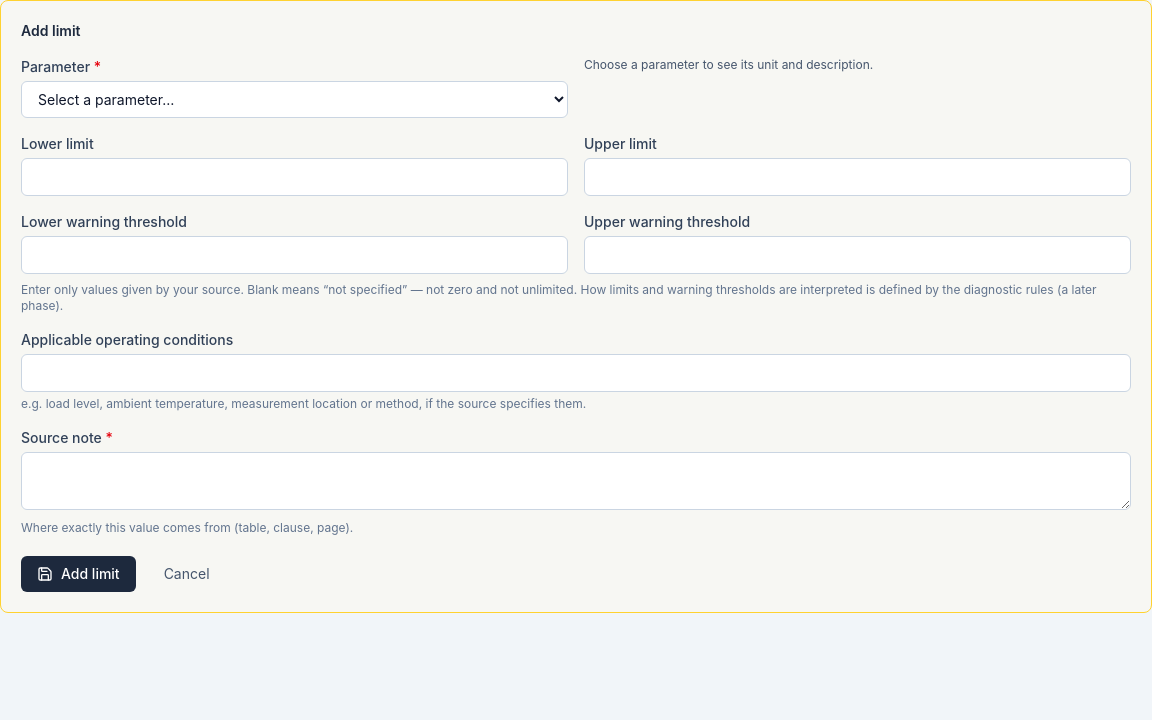
LimitForm › rejects a form with no thresholds and does not submit
Select "Voltage (V)" in the dropdown labelled "Parameter *" at point(294, 100), box top-left (21, 81), bottom-right (568, 118)
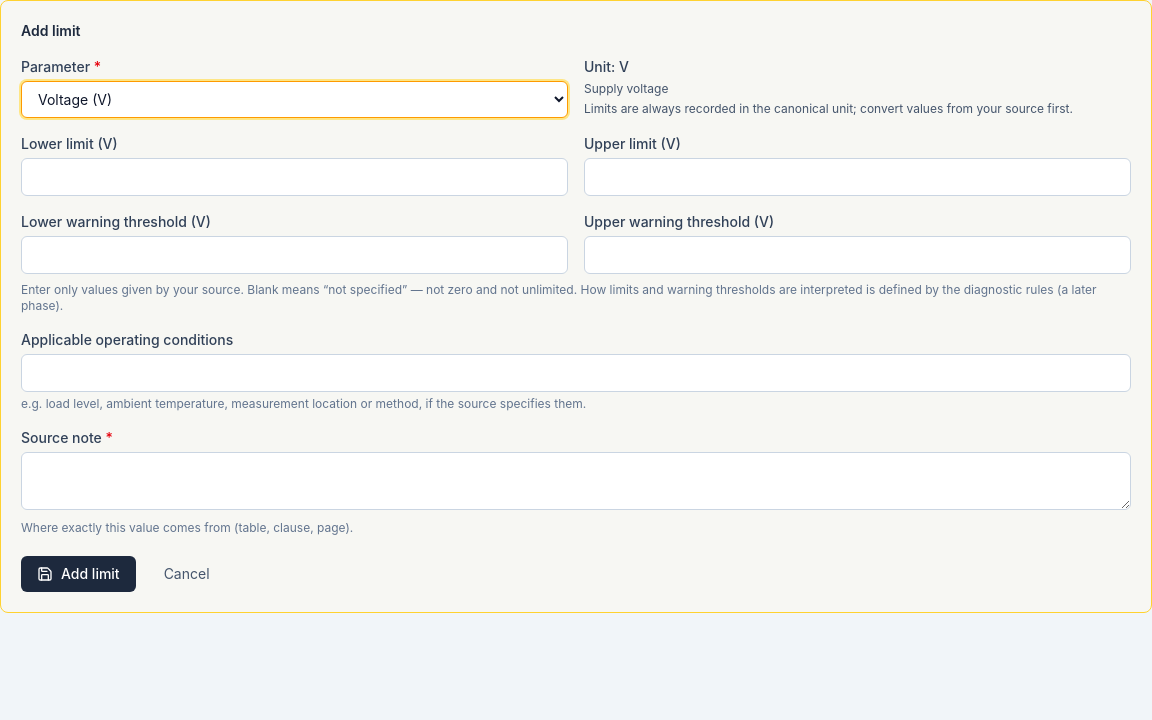
Type "note" into the text box labelled "Source note *" at point(576, 481), box top-left (21, 452), bottom-right (1131, 510)
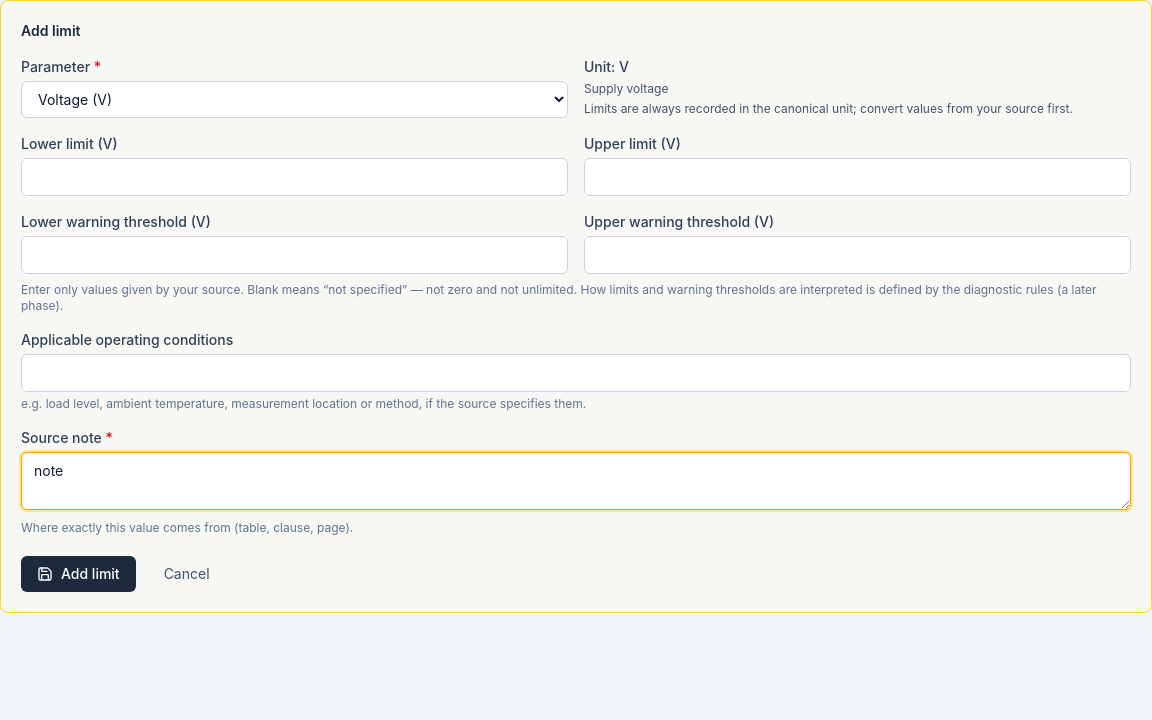
Click the button "Add limit" at point(78, 574), box top-left (21, 556), bottom-right (136, 592)
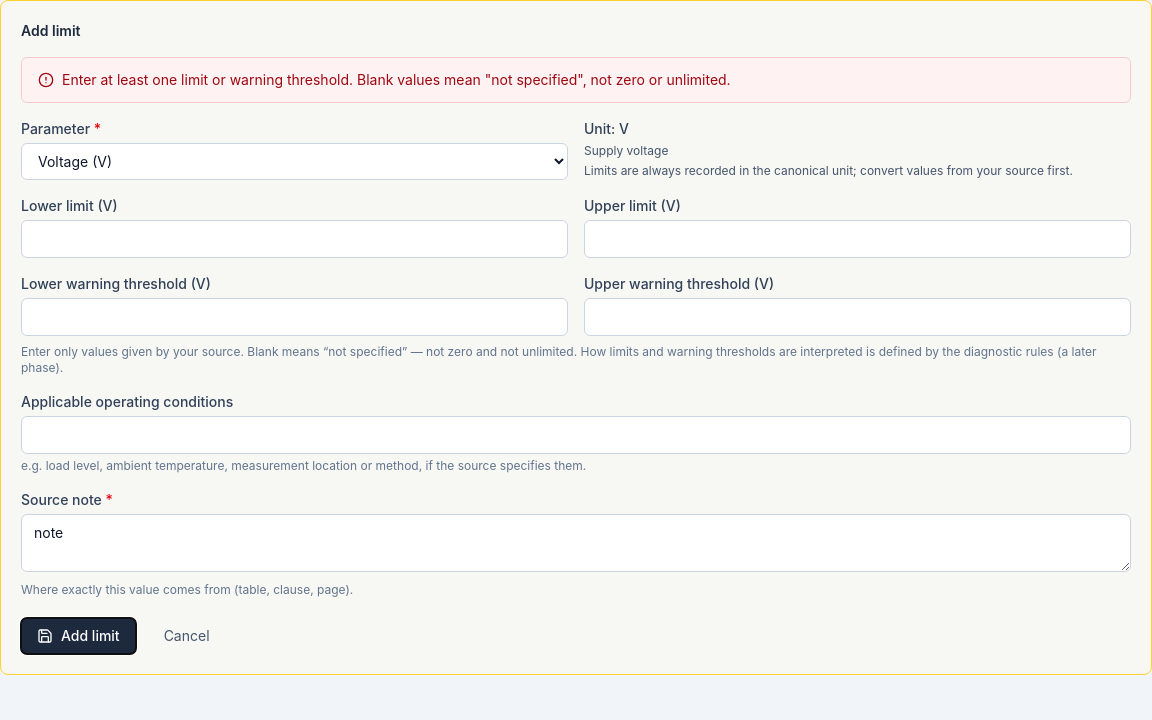
Result: the message shows "at least one limit" at top-left (62, 71), bottom-right (731, 88)
